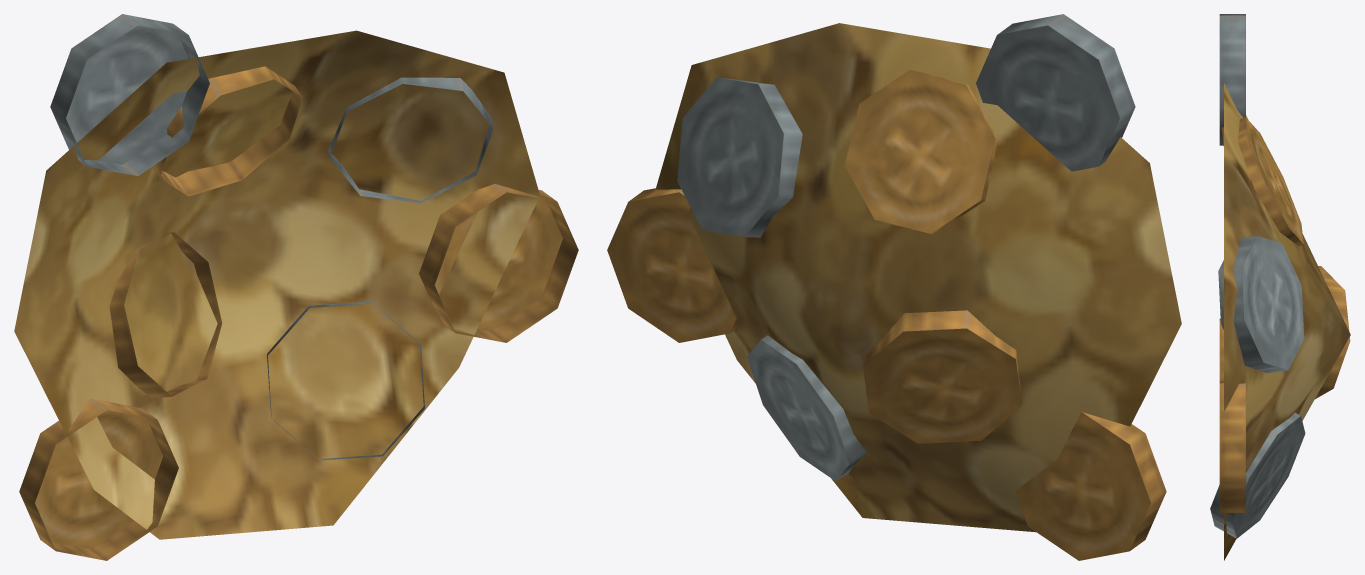
Rendered from Gold_Stack_A.fbx.
3 renders of one model, left to right at view 1: azimuth 30°, elevation 25°; view 2: azimuth 150°, elevation 25°; view 3: azimuth 270°, elevation 25°, orthographic. The views are drawn at different scales.
Visible parts, largest first — view 1: Gold_Stack_A; view 2: Gold_Stack_A; view 3: Gold_Stack_A.
Part boxes in pixels (box(x1,y1,x2,y2)): Gold_Stack_A: box(14, 14, 578, 560); Gold_Stack_A: box(607, 14, 1181, 560); Gold_Stack_A: box(1210, 14, 1350, 560).
Size of the model in its own units: 0.6656 by 0.6231 by 0.1716.
